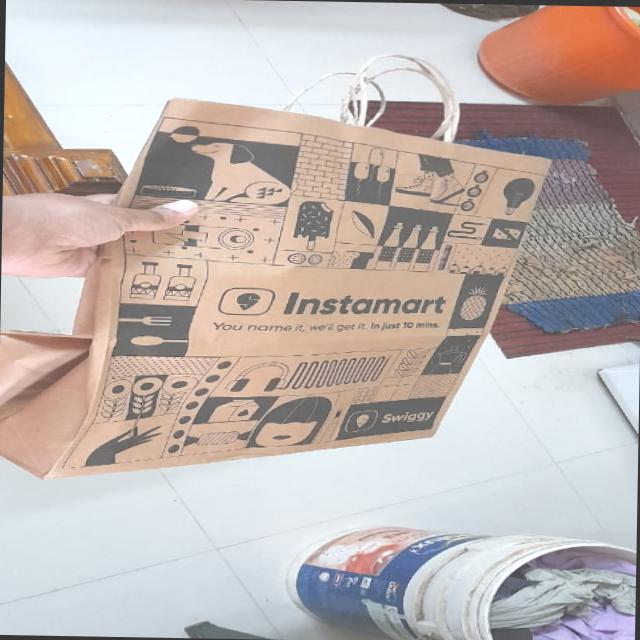Paper_Bag - Recyclable: (0, 90, 558, 486)
